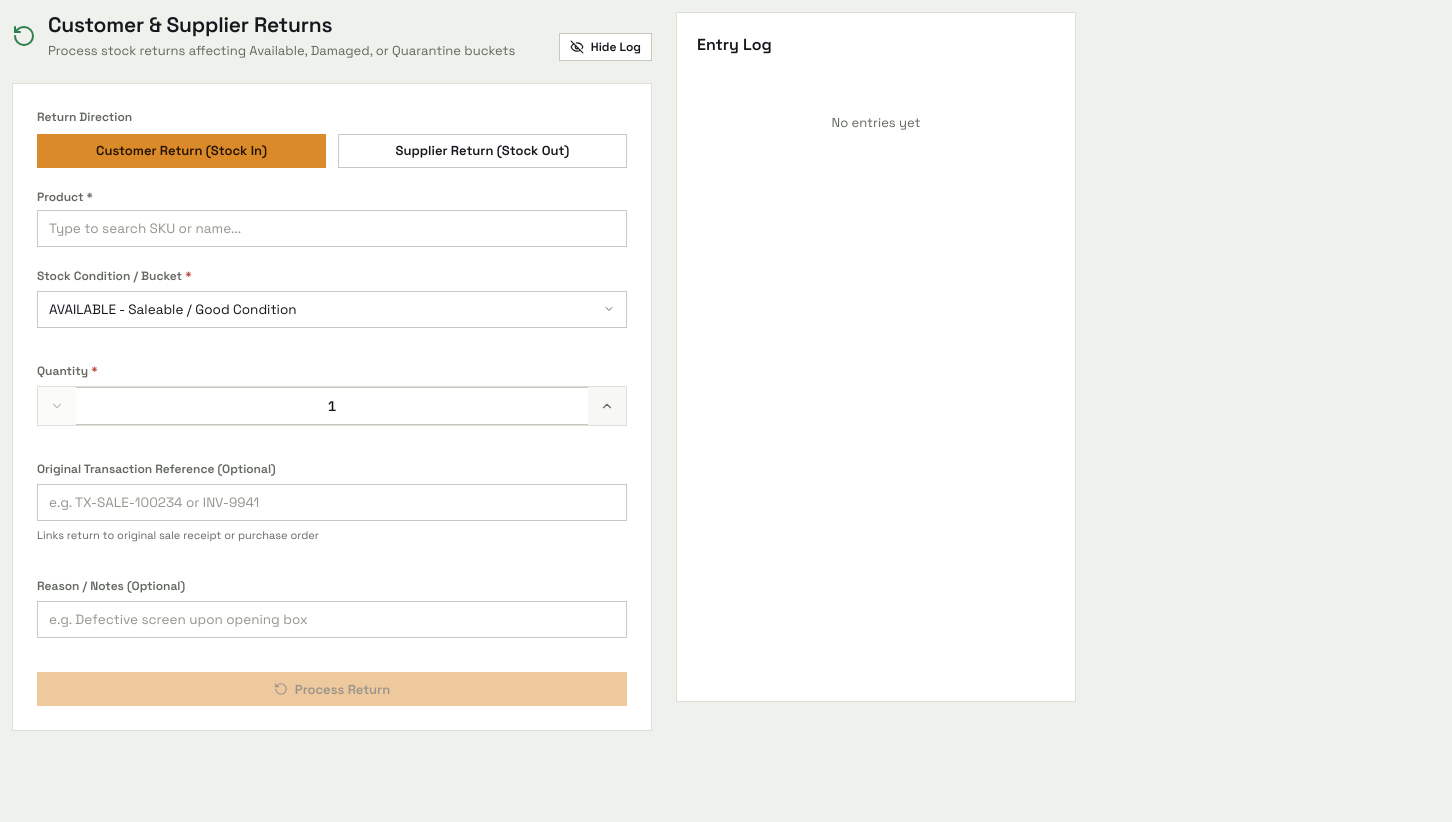
Test: ReturnStockView — Issue 08 Acceptance Criteria › customer return marked "damaged" increases the DAMAGED bucket, not AVAILABLE
Type "LG" into the field with test id "product-search". click: (332, 228)
box: [37,210,627,247]
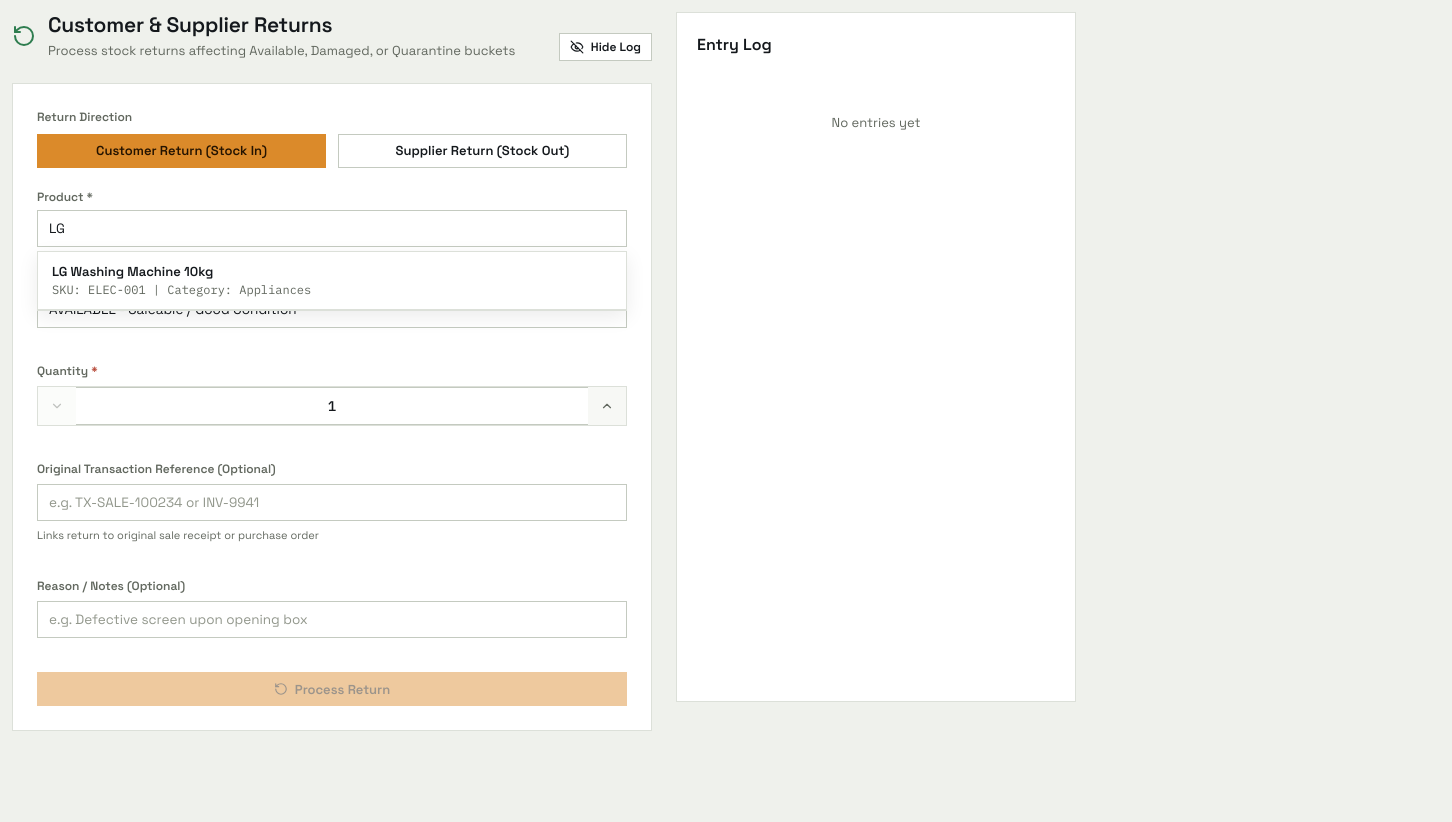
Expected: the list item with test id "product-option-PROD-001" is shown
Click the list item with test id "product-option-PROD-001". click: (332, 281)
box: [38,252,626,310]
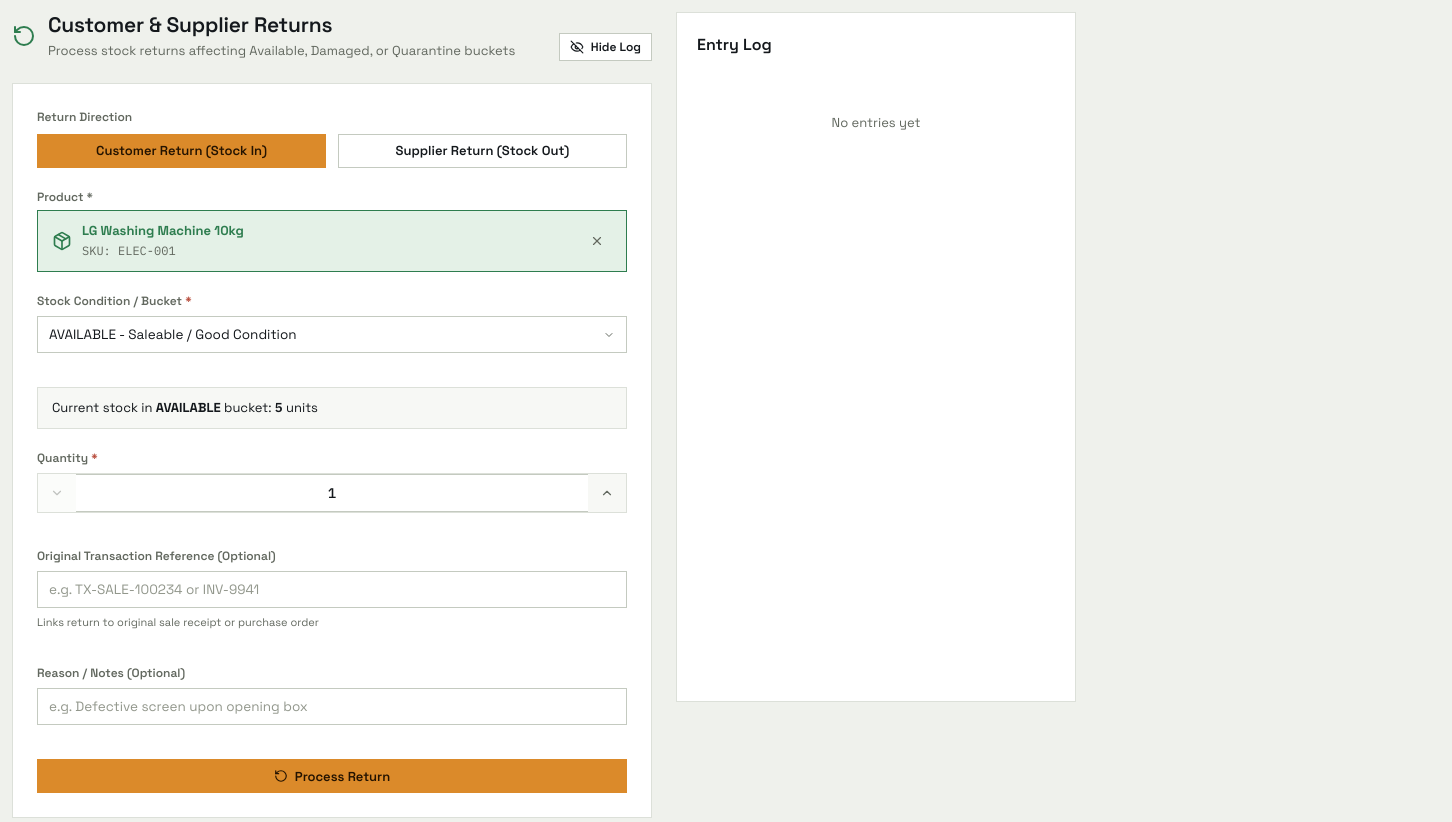
Expected: the element with test id "selected-product-card" is shown, [37,210,627,272]
Select "DAMAGED - Damaged / Defective Stock" in the dropdown with test id "bucket-select". click: (332, 335)
box: [37,316,627,353]
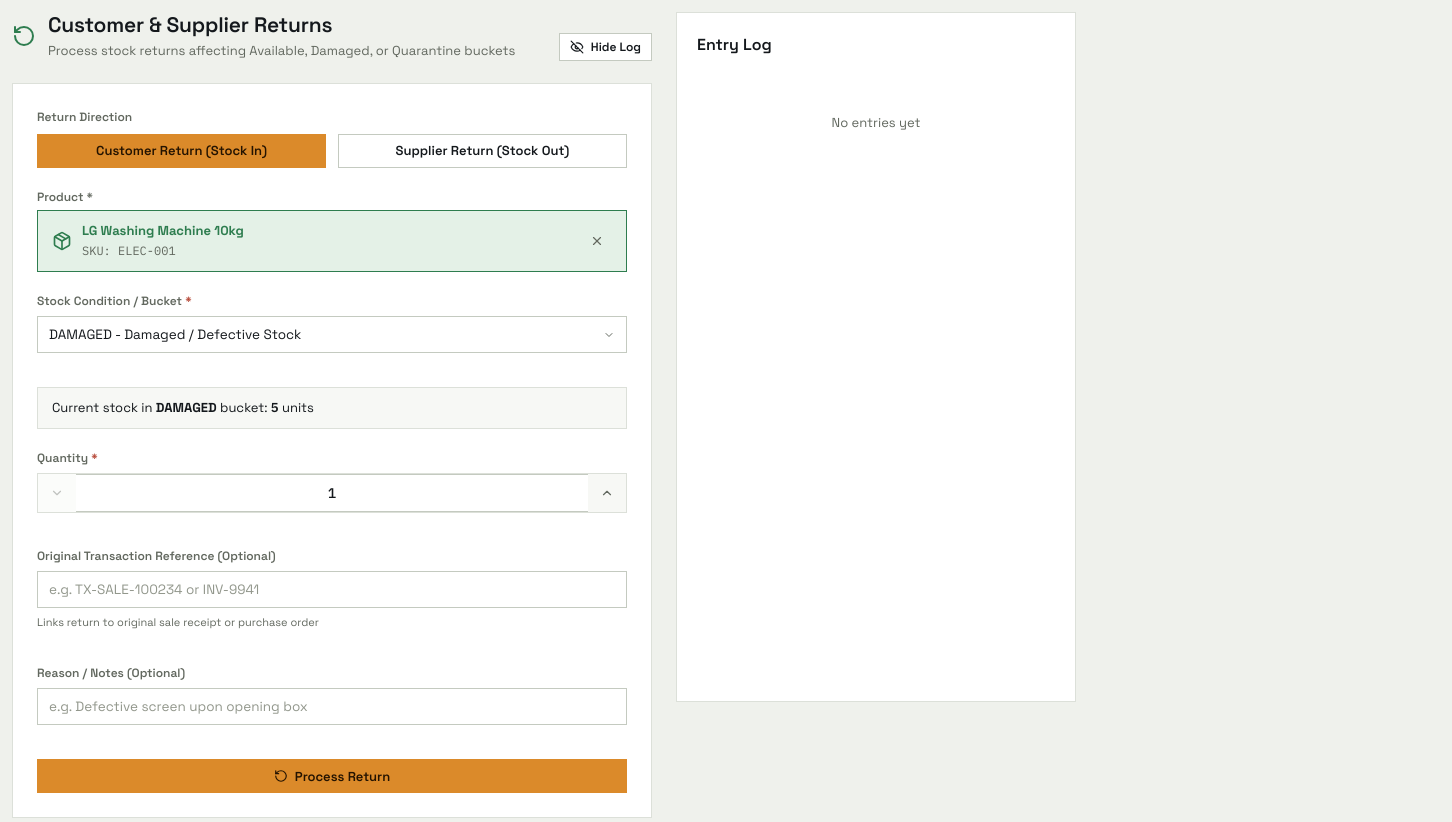
Replace the text in the number field with test id "quantity-input" with "2". click: (332, 493)
box: [76,474,588,512]
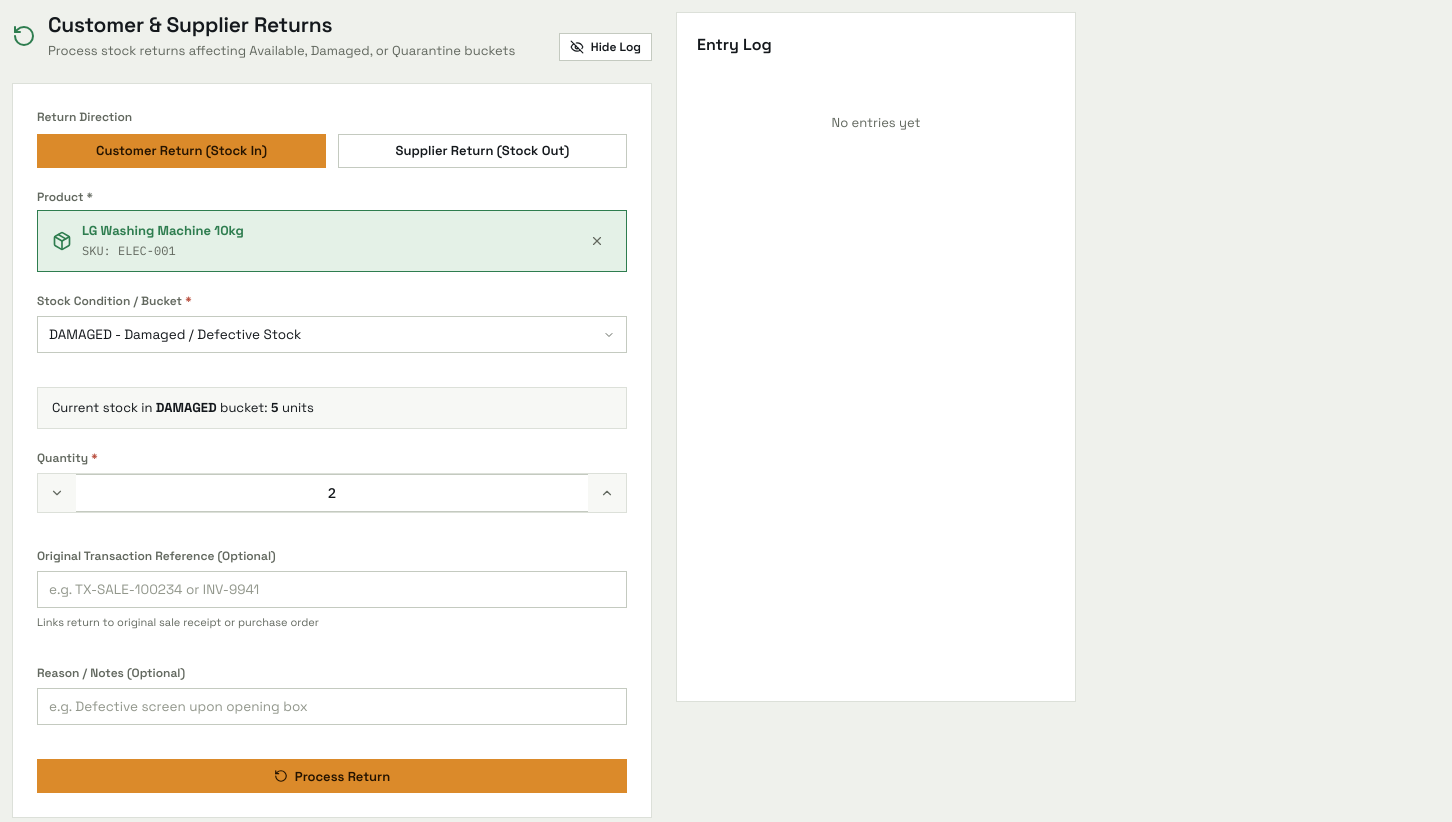
Click the button with test id "submit-return-button". click: (332, 776)
box: [37,759,627,793]
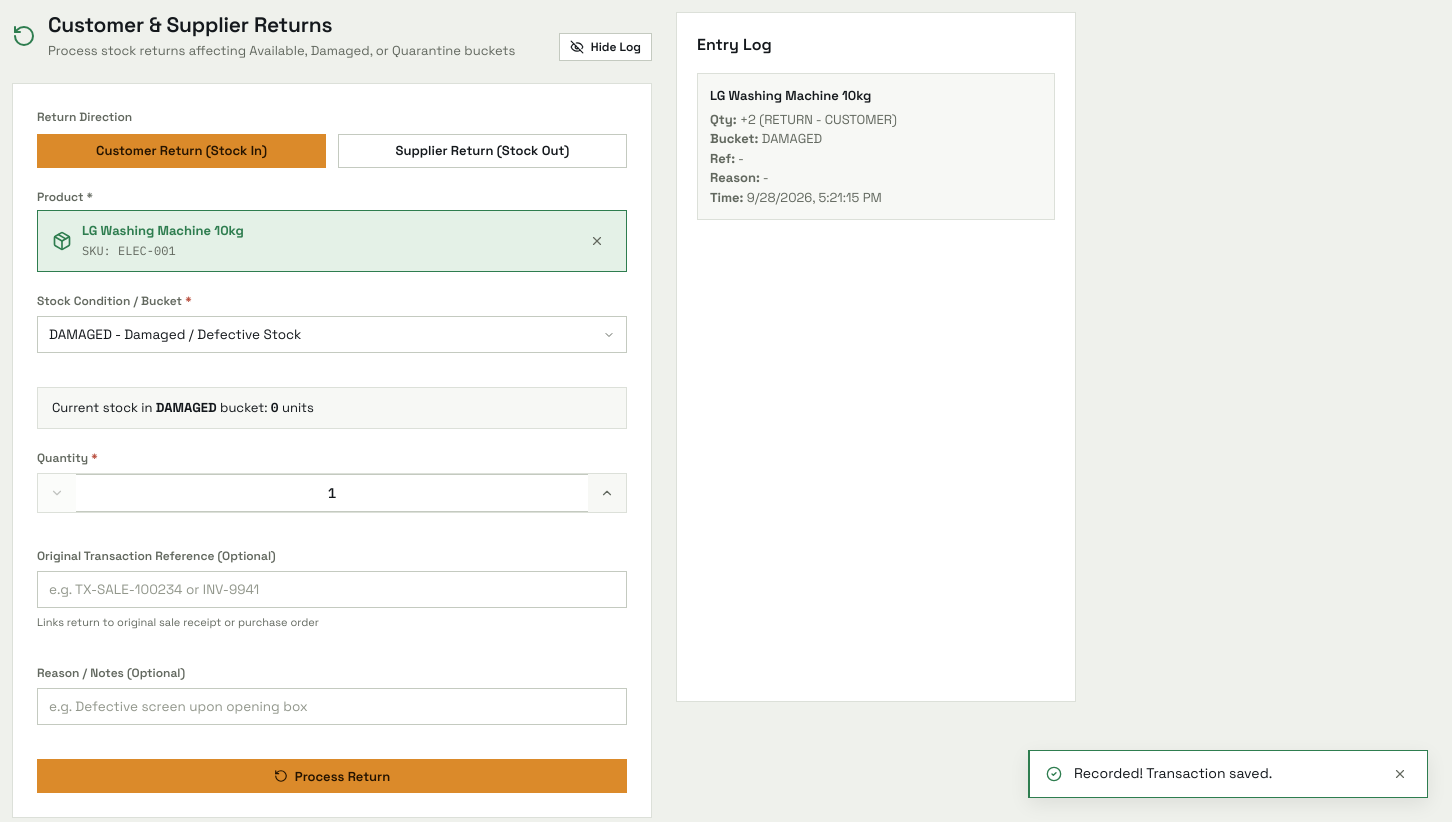
Expected: the text "Recorded! Transaction saved." is shown, [1074,764,1272,782]
